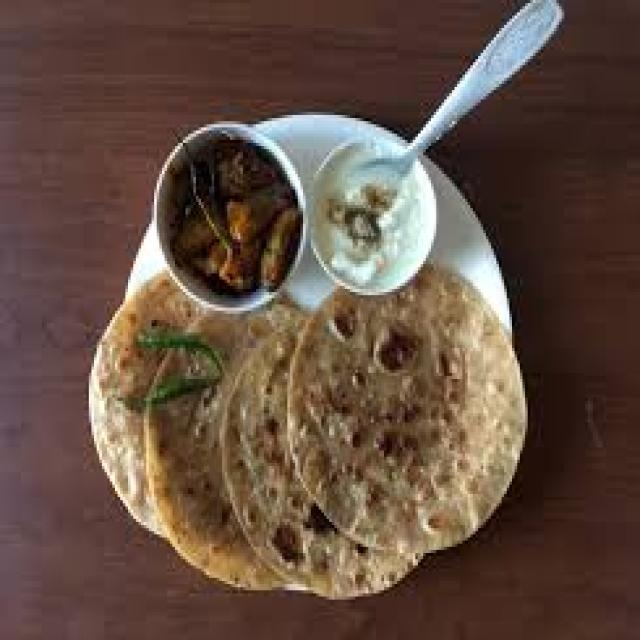ROTI: (290, 264, 525, 559), (222, 304, 415, 597), (144, 317, 287, 587), (89, 270, 201, 537)
